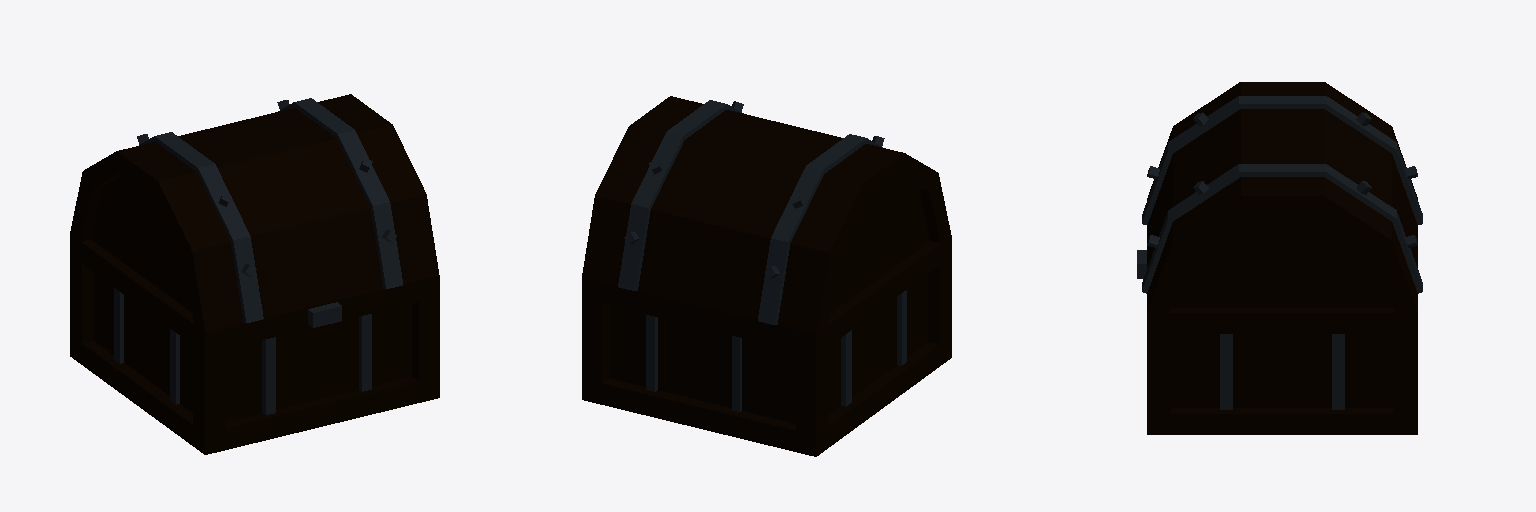
The model's file is TreasureChest_02.obj.
3 views of the same model, side by side, from view 1: azimuth 30°, elevation 25°; view 2: azimuth 150°, elevation 25°; view 3: azimuth 270°, elevation 25° (orthographic).
Parts seen in each view (by area): view 1: TreasureChest_Lid_Cylinder, TreasureChest_Base_Cube.001, Rivets_Cylinder.001; view 2: TreasureChest_Lid_Cylinder, TreasureChest_Base_Cube.001, Rivets_Cylinder.001; view 3: TreasureChest_Lid_Cylinder, TreasureChest_Base_Cube.001, Rivets_Cylinder.001.
Part boxes in pixels (left/top/right/bottom): TreasureChest_Lid_Cylinder: left=70, top=94, right=438, bottom=332; TreasureChest_Base_Cube.001: left=70, top=234, right=439, bottom=454; Rivets_Cylinder.001: left=137, top=100, right=396, bottom=276; TreasureChest_Lid_Cylinder: left=582, top=96, right=951, bottom=333; TreasureChest_Base_Cube.001: left=582, top=236, right=951, bottom=456; Rivets_Cylinder.001: left=624, top=101, right=884, bottom=278; TreasureChest_Lid_Cylinder: left=1142, top=82, right=1422, bottom=312; TreasureChest_Base_Cube.001: left=1137, top=250, right=1417, bottom=434; Rivets_Cylinder.001: left=1147, top=112, right=1417, bottom=247.
Bounding box in the file's own units: 2 × 1.99 × 2.12.